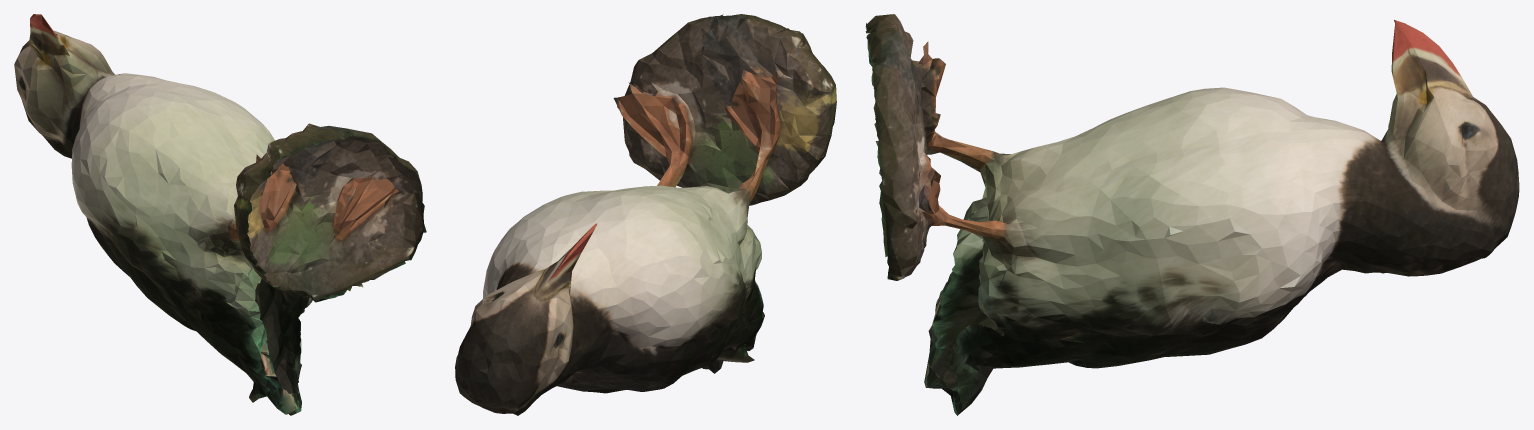
File: Puffin.obj
3 renders of one model, left to right at view 1: azimuth 30°, elevation 25°; view 2: azimuth 150°, elevation 25°; view 3: azimuth 270°, elevation 25°, orthographic. The views are drawn at different scales.
Bounding box in the file's own units: 1.33 × 1.9 × 2.96.
